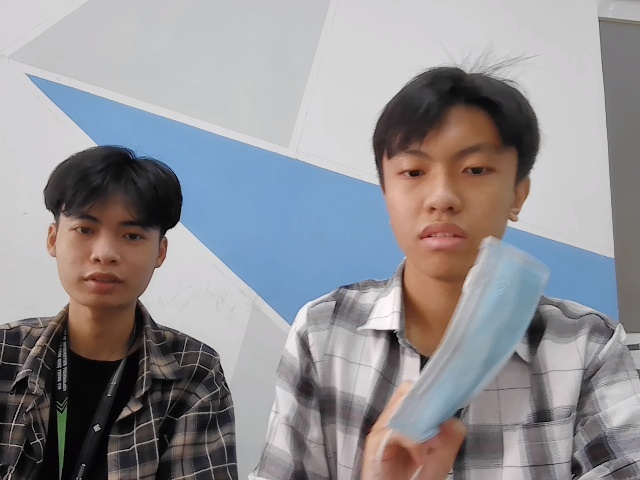human: (375, 65, 537, 289), (44, 145, 185, 316)
mask: (387, 235, 550, 453)
